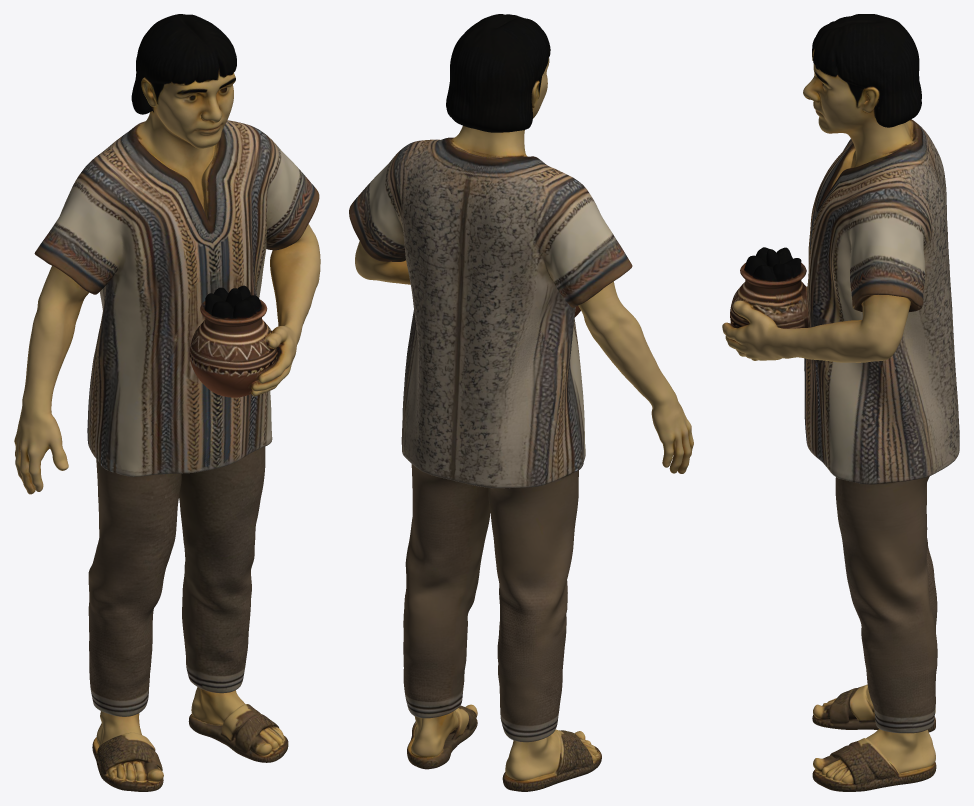
Rendered from 12-el-cuidandero-y-el-muchacho-de-oro-optimized.glb.
The picture shows the model from 3 angles, left to right: view 1: azimuth 30°, elevation 25°; view 2: azimuth 150°, elevation 25°; view 3: azimuth 270°, elevation 25°; orthographic projection.
Visible parts, largest first — view 1: tripo_node_d957d32e-c7d3-4b0f-aeb0-ed366c1b1ef6; view 2: tripo_node_d957d32e-c7d3-4b0f-aeb0-ed366c1b1ef6; view 3: tripo_node_d957d32e-c7d3-4b0f-aeb0-ed366c1b1ef6.
Part boxes in pixels (<box>): tripo_node_d957d32e-c7d3-4b0f-aeb0-ed366c1b1ef6: <box>14,14,320,791</box>; tripo_node_d957d32e-c7d3-4b0f-aeb0-ed366c1b1ef6: <box>349,14,693,791</box>; tripo_node_d957d32e-c7d3-4b0f-aeb0-ed366c1b1ef6: <box>722,14,959,791</box>.
Size of the model in its own units: 0.4497 by 1 by 0.2945.
1 material, 1 textured.
